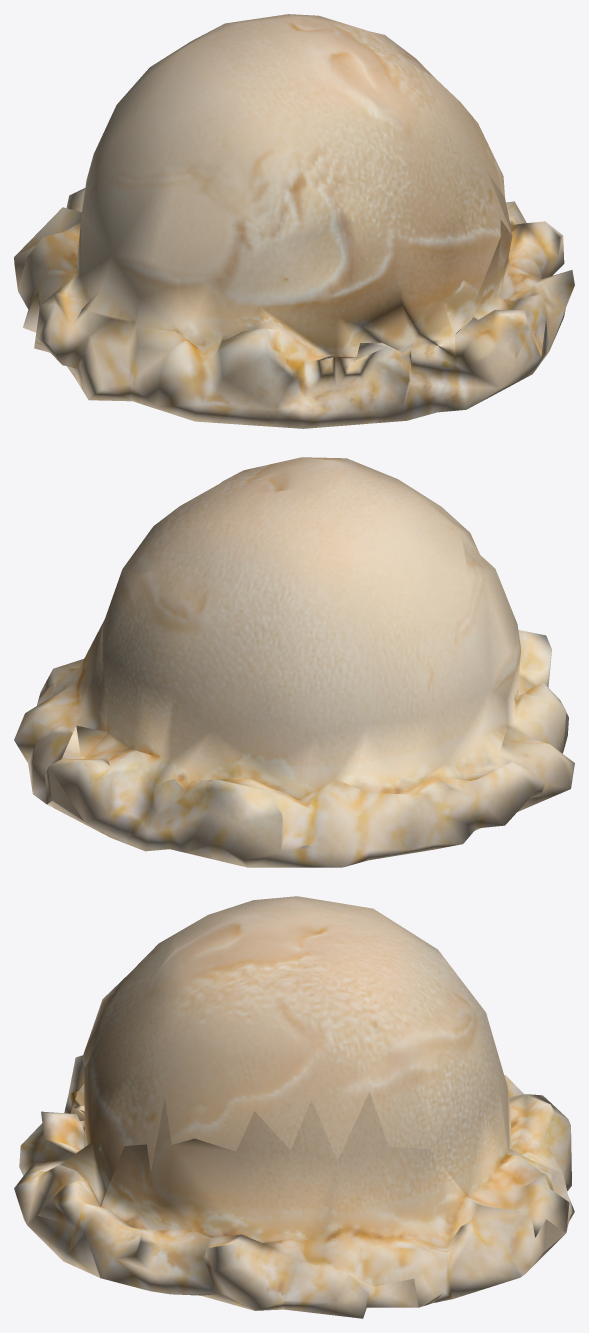
The model's file is Food_IceCreamVanilla.fbx.
3 views of the same model, one above another, from view 1: azimuth 30°, elevation 25°; view 2: azimuth 150°, elevation 25°; view 3: azimuth 270°, elevation 25° (orthographic). The views are drawn at different scales.
Parts seen in each view (by area): view 1: Food_IceCreamVanilla; view 2: Food_IceCreamVanilla; view 3: Food_IceCreamVanilla.
Boxes of the visible parts, left/top/right/bottom form: Food_IceCreamVanilla: left=14, top=14, right=574, bottom=428; Food_IceCreamVanilla: left=14, top=457, right=574, bottom=867; Food_IceCreamVanilla: left=14, top=896, right=574, bottom=1318.
Size of the model in its own units: 0.26 by 0.1427 by 0.2546.
1 material, 1 textured.
